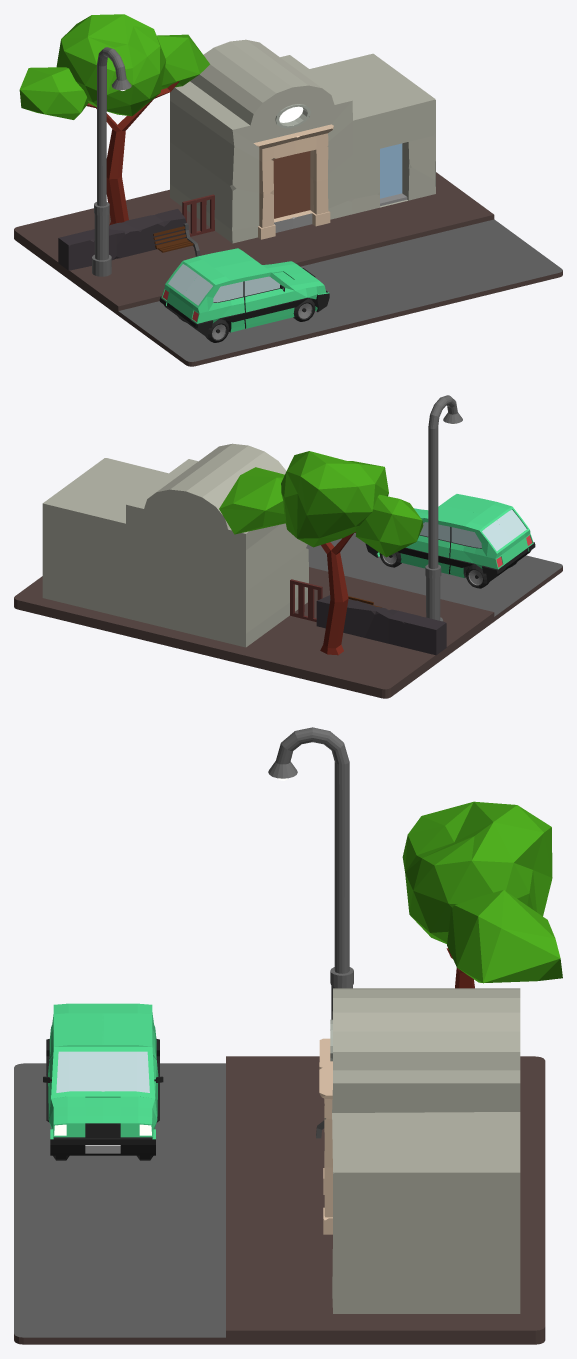
File: chiesetta3.glb
3 renders of one model, top to bottom at view 1: azimuth 30°, elevation 25°; view 2: azimuth 150°, elevation 25°; view 3: azimuth 270°, elevation 25°, orthographic. The views are drawn at different scales.
Visible parts, largest first — view 1: church, road, car, Icosphere.002, Cube, streetlight, Icosphere, tree trunk, Icosphere.001, bench; view 2: church, road, car, Icosphere.002, Cube, Icosphere.001, streetlight, Icosphere, tree trunk; view 3: road, church, car, Icosphere.002, Icosphere.001, streetlight.
Boxes of the visible parts, x1,y1,x2,y2 form: church: (170,39,435,243); road: (14,172,562,366); car: (159,248,329,342); Icosphere.002: (56,14,165,116); Cube: (58,194,214,270); streetlight: (92,47,131,276); Icosphere: (19,67,88,119); tree trunk: (86,81,178,225); Icosphere.001: (157,34,209,89); bench: (153,223,200,256); church: (42,443,308,647); road: (14,533,562,698); car: (365,494,535,588); Icosphere.002: (281,451,388,547); Cube: (290,579,446,655); Icosphere.001: (219,467,285,534); streetlight: (425,395,462,621); Icosphere: (355,494,423,557); tree trunk: (320,532,355,655); road: (14,1056,545,1344); church: (319,988,520,1313); car: (43,1003,163,1160); Icosphere.002: (402,801,552,943); Icosphere.001: (447,890,562,983); streetlight: (268,727,353,1019).
Bounding box in the file's own units: 14.32 × 8.43 × 11.7.
